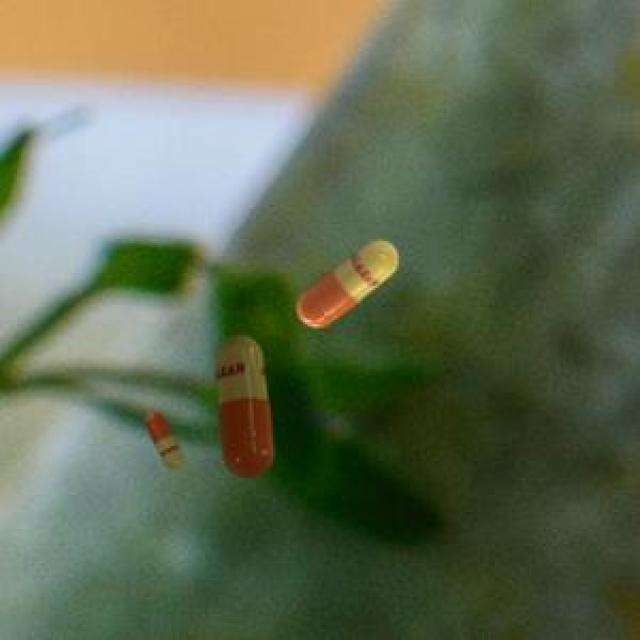Alaxan: (206, 319, 287, 482), (287, 236, 408, 331), (139, 400, 192, 483)
